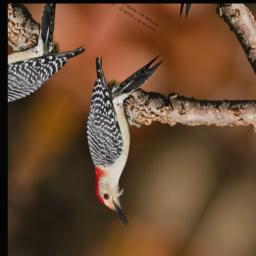Woodpecker: (34, 23, 207, 227)
